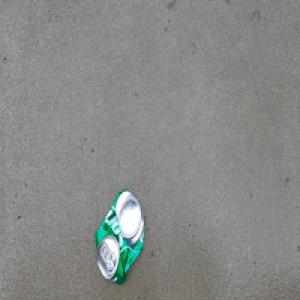SodaCan: (93, 186, 144, 286)
